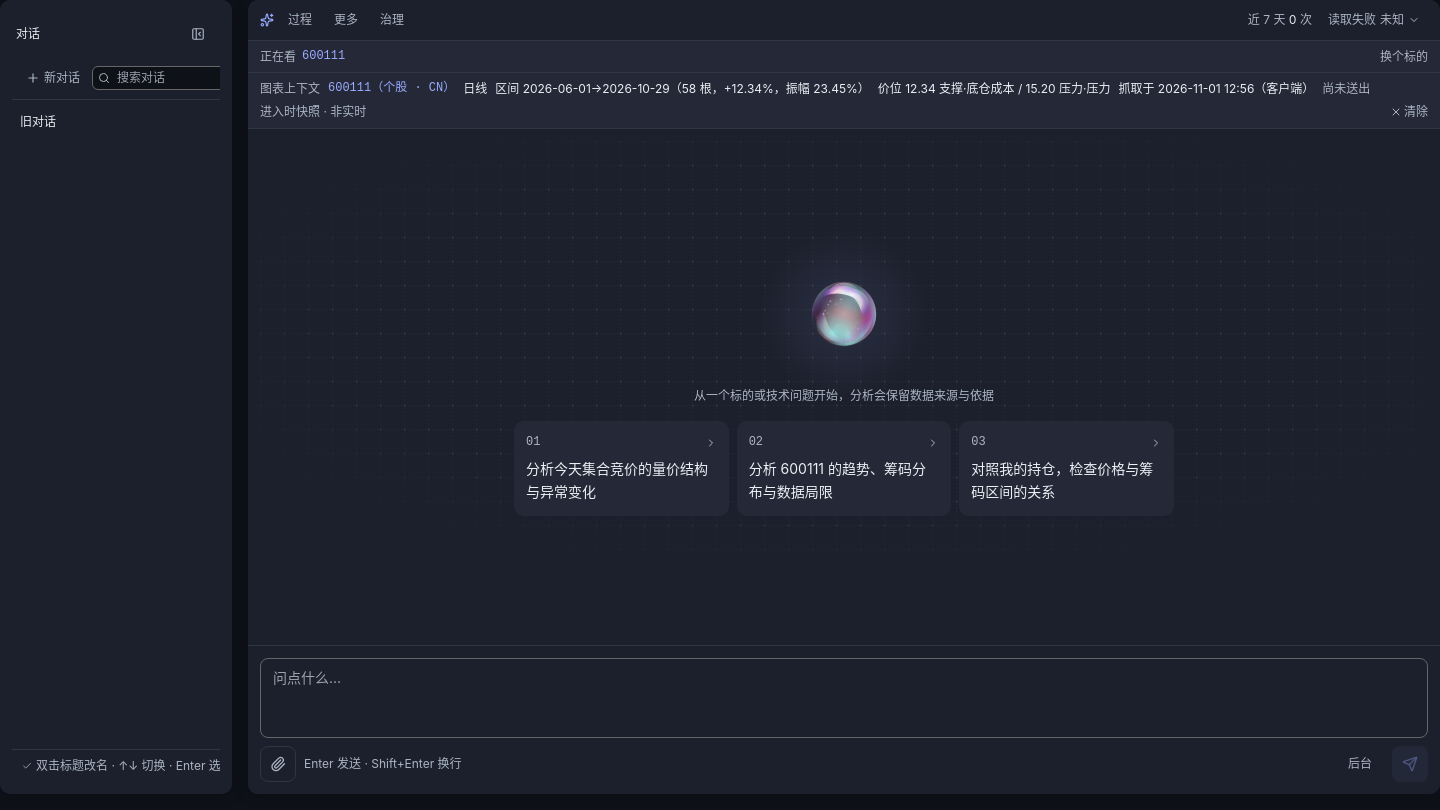
Test case: 首问之后清除：后端不能再读旧快照 › 首问之后改问另一只票 → 新会话承接新一轮，旧会话的快照不再被复用
Expected: the element with test id "copilot-chart-context" is shown, x1=248 y1=73 x2=1439 y2=129
Expected: the button named "发送" is shown, x1=1392 y1=746 x2=1428 y2=782
Type "先看看 600111" into the text box with placeholder "问点什么…". click: (844, 698)
box: x1=260 y1=658 x2=1428 y2=738
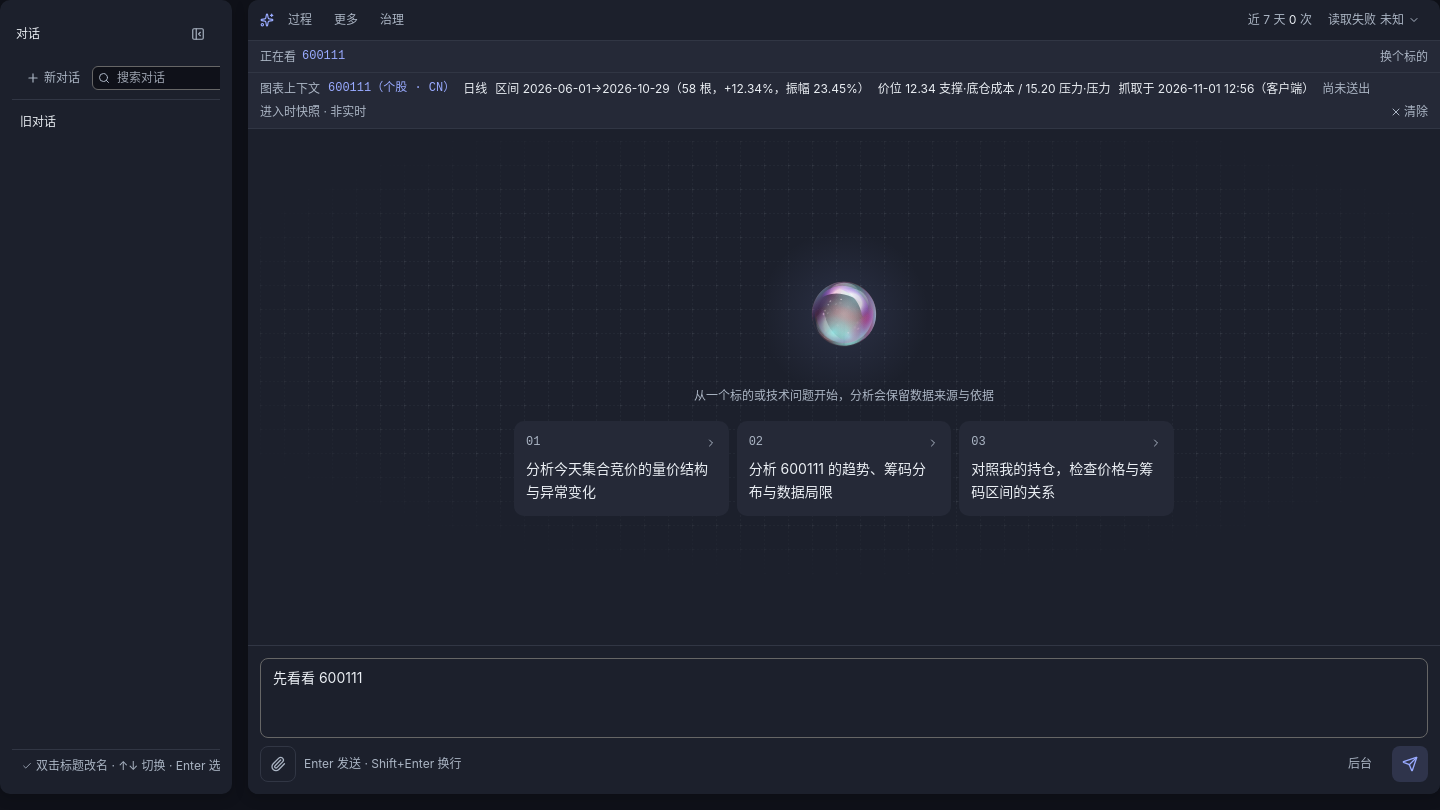
Click the button named "发送". click: (1410, 764)
box: x1=1392 y1=746 x2=1428 y2=782
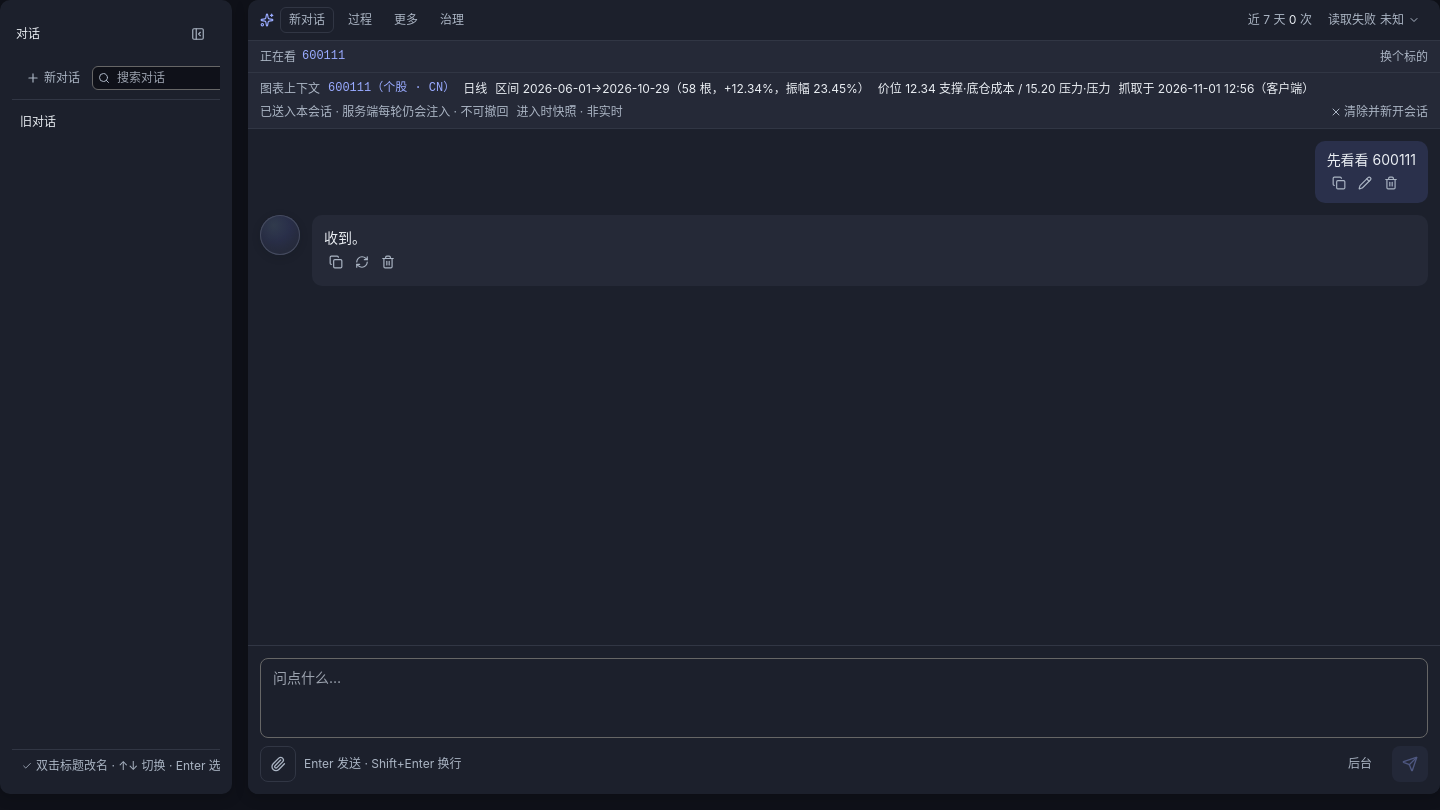
Type "000776 怎么样" into the text box with placeholder "问点什么…". click: (844, 698)
box: x1=260 y1=658 x2=1428 y2=738
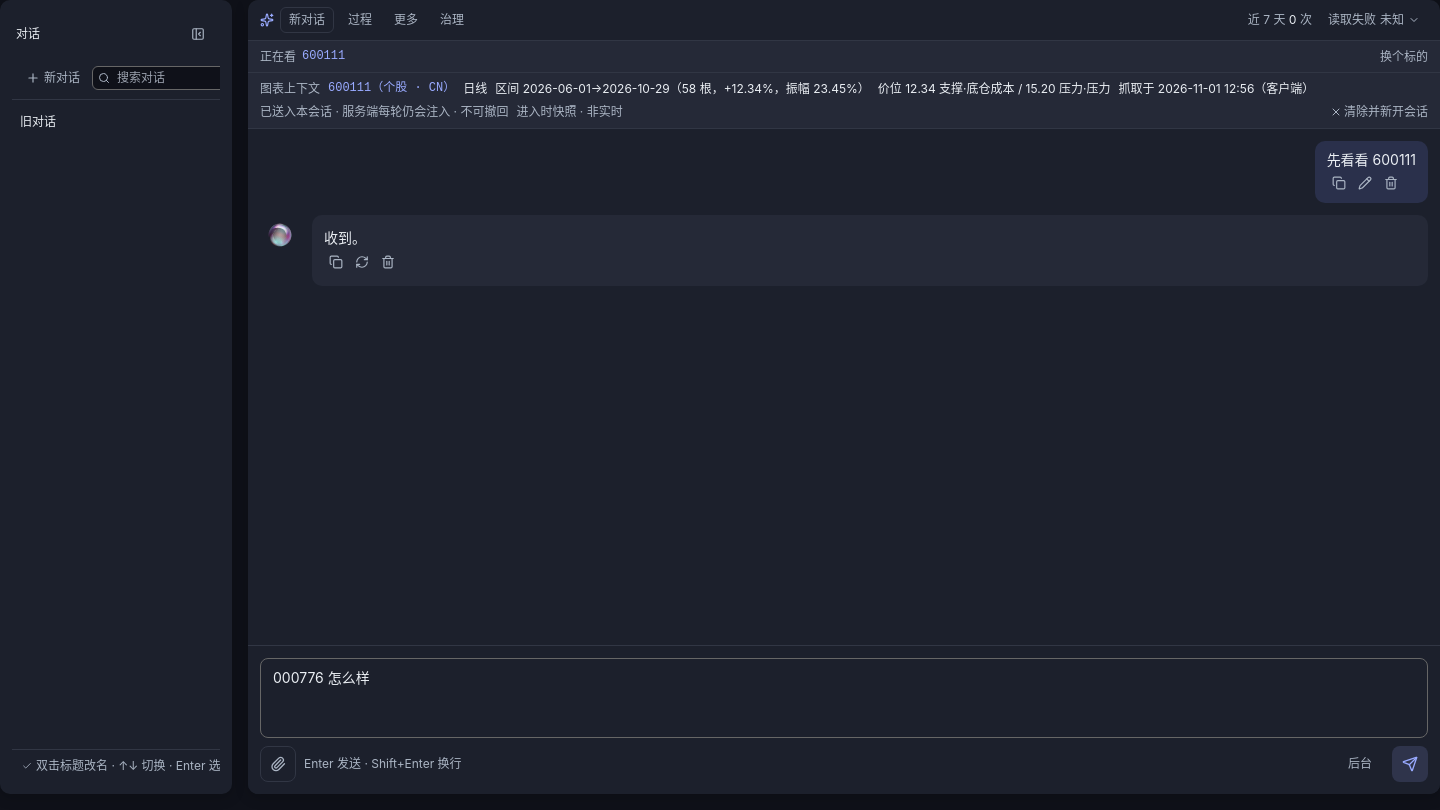
Click the button named "发送". click: (1410, 764)
box: x1=1392 y1=746 x2=1428 y2=782
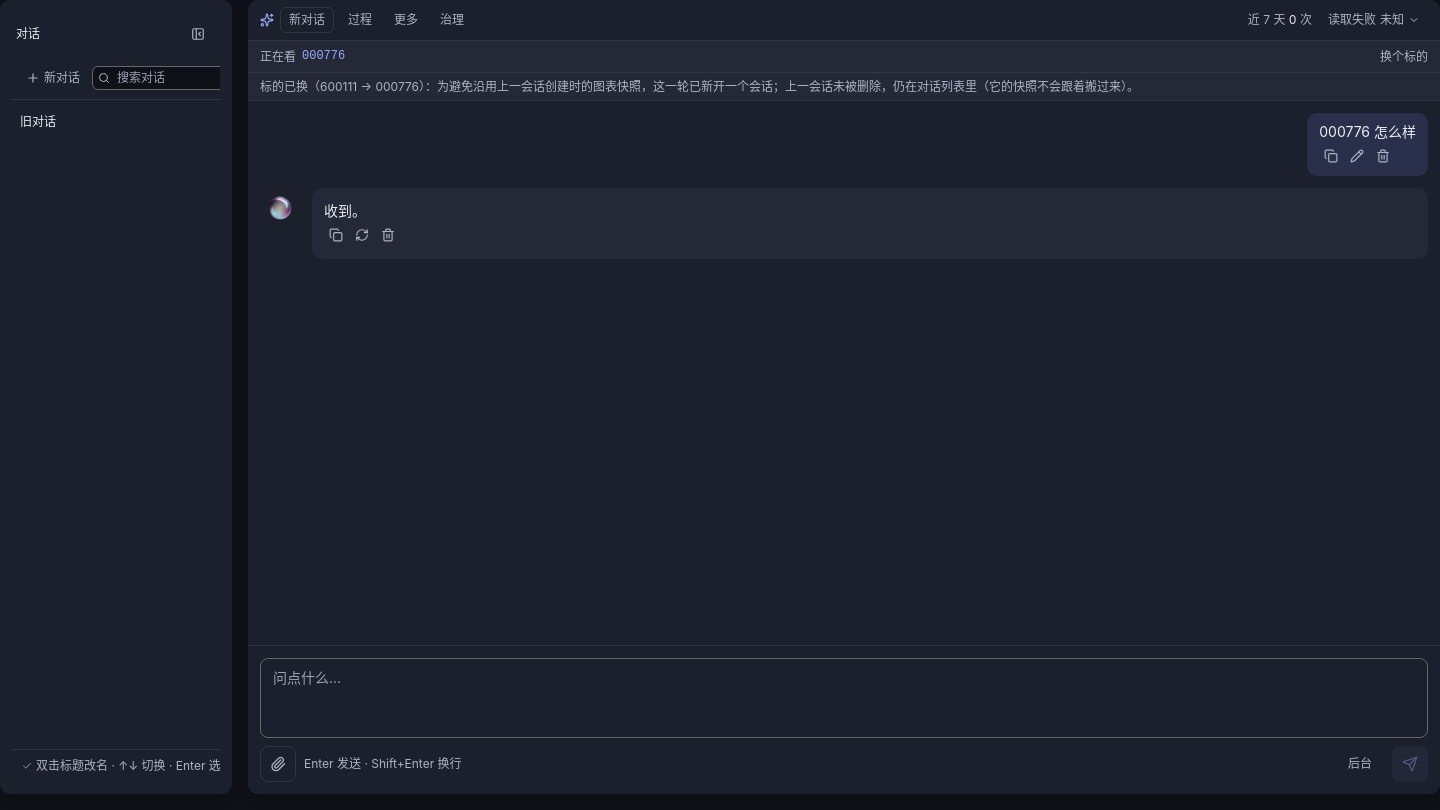
Now the text with test id "copilot-chart-context-notice" shows "新开", box x1=248 y1=73 x2=1439 y2=101
